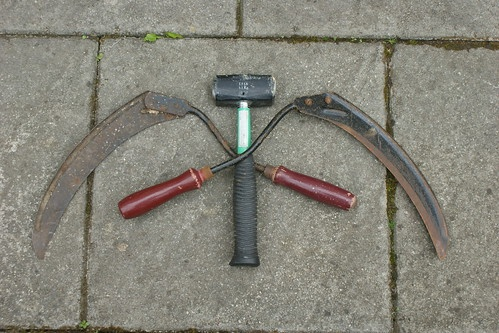hammer: (208, 71, 278, 269)
